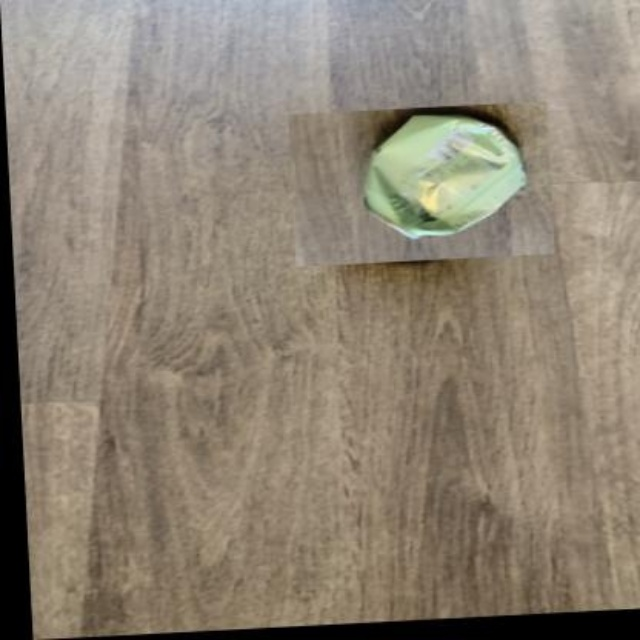trash: (365, 114, 525, 237)
